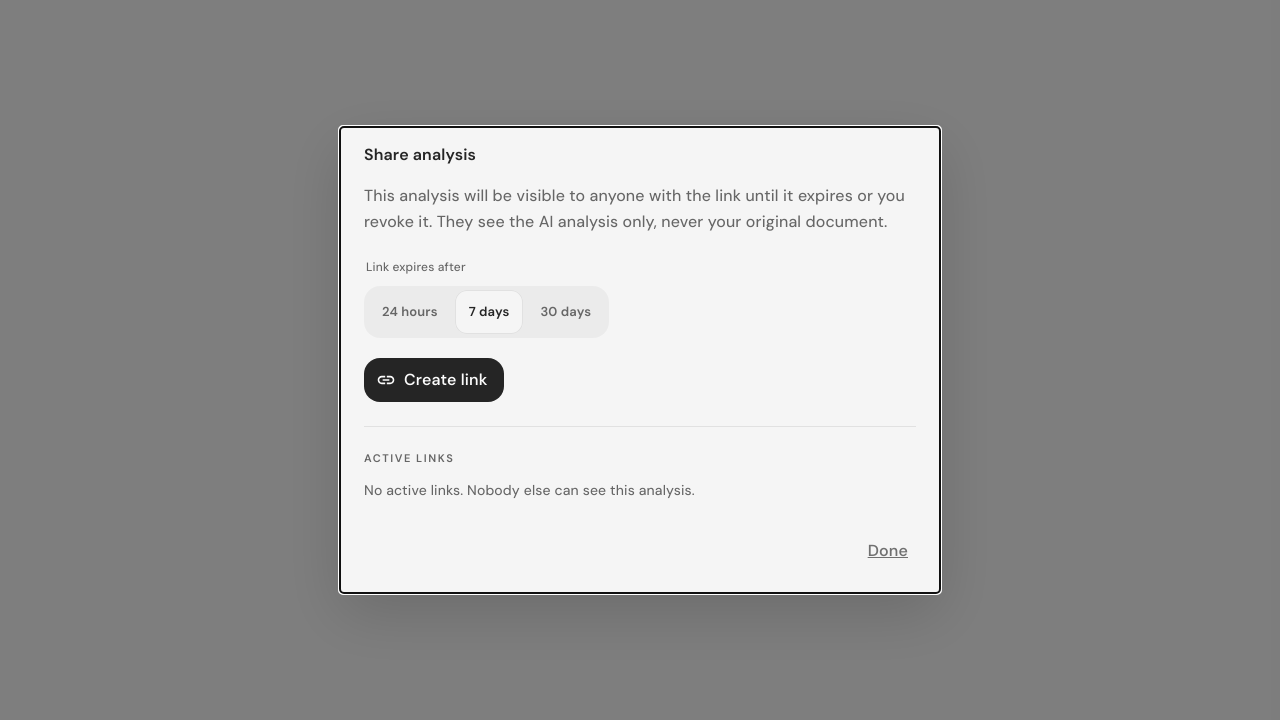
Test: ShareLetterDialog › keeps the new link visible when revoking it fails
expect the text "No active links. Nobody else can see this analysis." is shown: met, box [364,480,695,498]
What coordinates should you click on to do the following:
click the button "Create link"
I would click on:
 (434, 380)
Its box is [364,358,504,402].
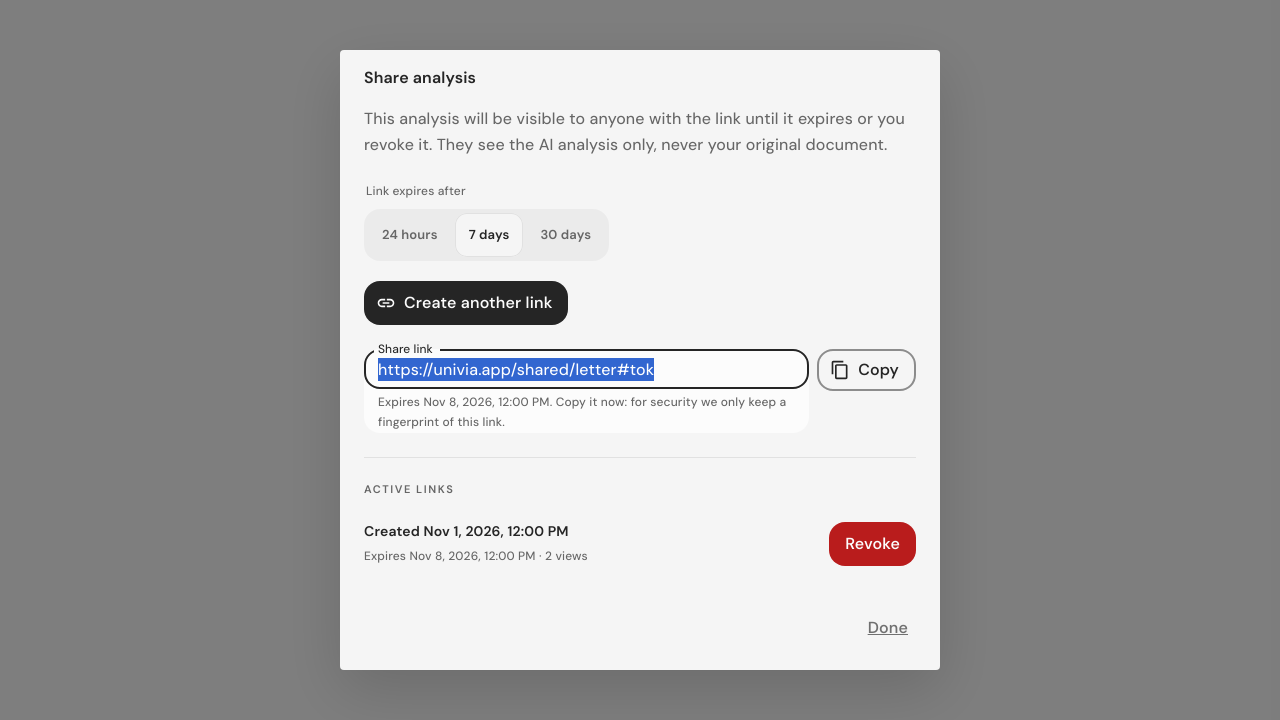
What coordinates should you click on to do the following:
click the button with aria-label "revoke link created"
I would click on:
 (873, 544)
Its box is [829,522,916,566].
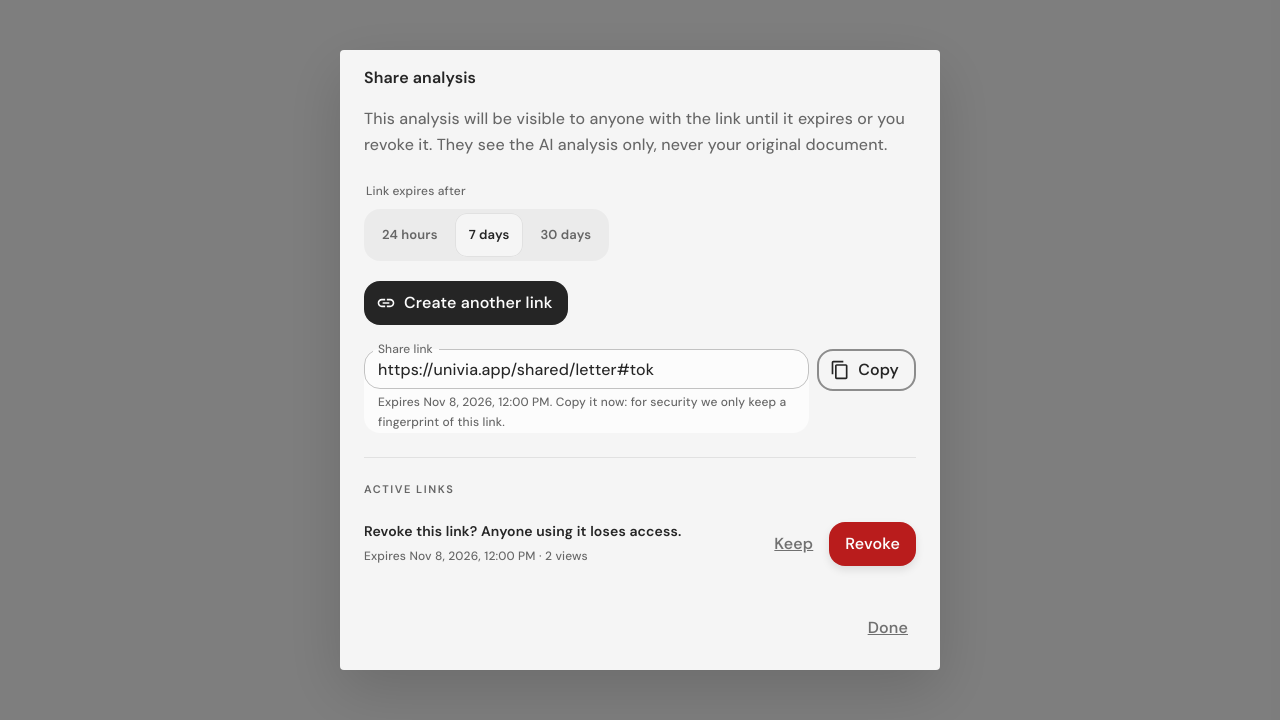
What coordinates should you click on to do the following:
click the button with aria-label "confirm revoke link created"
I would click on:
 (873, 544)
Its box is [829,522,916,566].
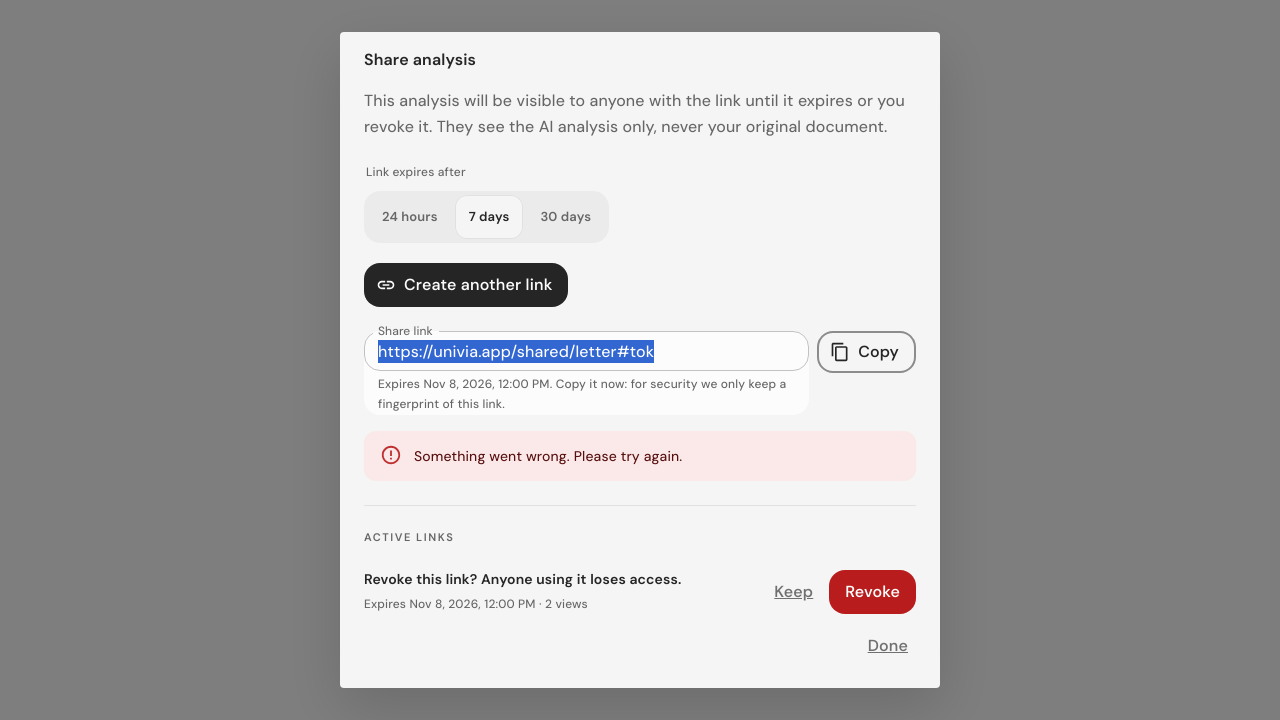
expect the field labelled "Share link" holds "https://univia.app/shared/letter#tok": met, box [364,331,809,371]
expect the text "Something went wrong. Please try again." is shown: met, box [414,447,682,465]
